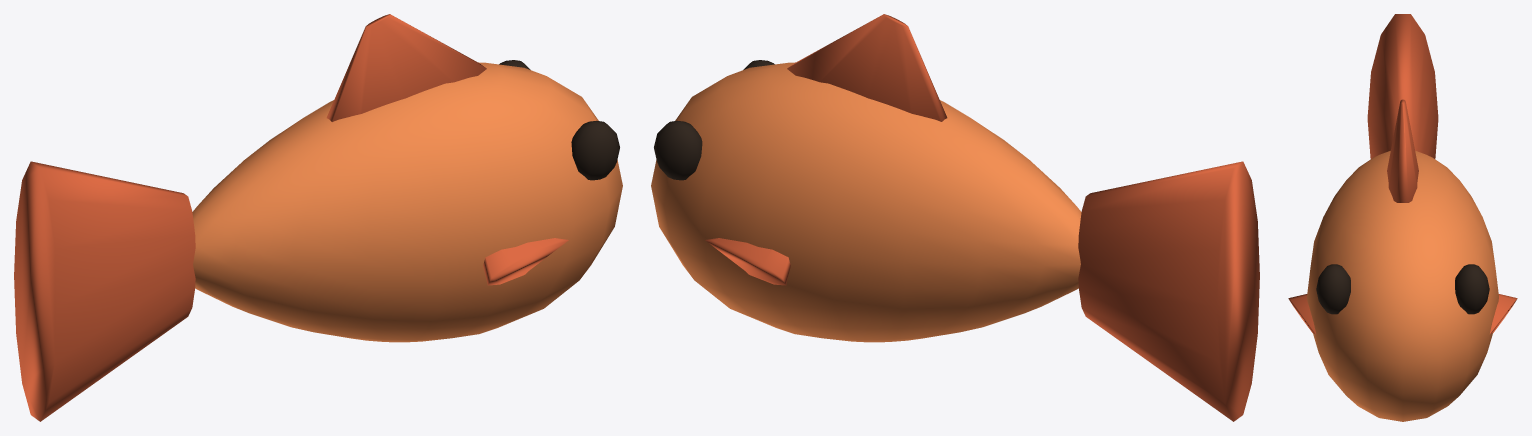
Rendered from fish.glb.
3 views of the same model, side by side, from view 1: azimuth 30°, elevation 25°; view 2: azimuth 150°, elevation 25°; view 3: azimuth 270°, elevation 25° (orthographic). The views are drawn at different scales.
Visible parts, largest first — view 1: fish_body, fish_tail, fish_dorsal, fish_eye_1, fish_pectoral_1; view 2: fish_body, fish_tail, fish_dorsal, fish_eye_0, fish_pectoral_0; view 3: fish_body, fish_tail, fish_dorsal, fish_eye_0, fish_eye_1, fish_pectoral_0, fish_pectoral_1.
Part boxes in pixels (left/top/right/bottom): fish_body: left=192, top=62, right=622, bottom=342; fish_tail: left=14, top=161, right=195, bottom=421; fish_dorsal: left=326, top=14, right=486, bottom=121; fish_eye_1: left=571, top=120, right=619, bottom=180; fish_pectoral_1: left=483, top=238, right=568, bottom=285; fish_body: left=651, top=62, right=1081, bottom=342; fish_tail: left=1078, top=161, right=1259, bottom=421; fish_dorsal: left=787, top=14, right=947, bottom=121; fish_eye_0: left=654, top=120, right=702, bottom=180; fish_pectoral_0: left=705, top=238, right=790, bottom=285; fish_body: left=1307, top=151, right=1498, bottom=421; fish_tail: left=1367, top=14, right=1438, bottom=158; fish_dorsal: left=1387, top=99, right=1418, bottom=202; fish_eye_0: left=1455, top=264, right=1489, bottom=314; fish_eye_1: left=1316, top=264, right=1350, bottom=314; fish_pectoral_0: left=1490, top=294, right=1517, bottom=333; fish_pectoral_1: left=1288, top=294, right=1315, bottom=333.
Size of the model in its own units: 0.4405 by 0.2404 by 0.1843.
